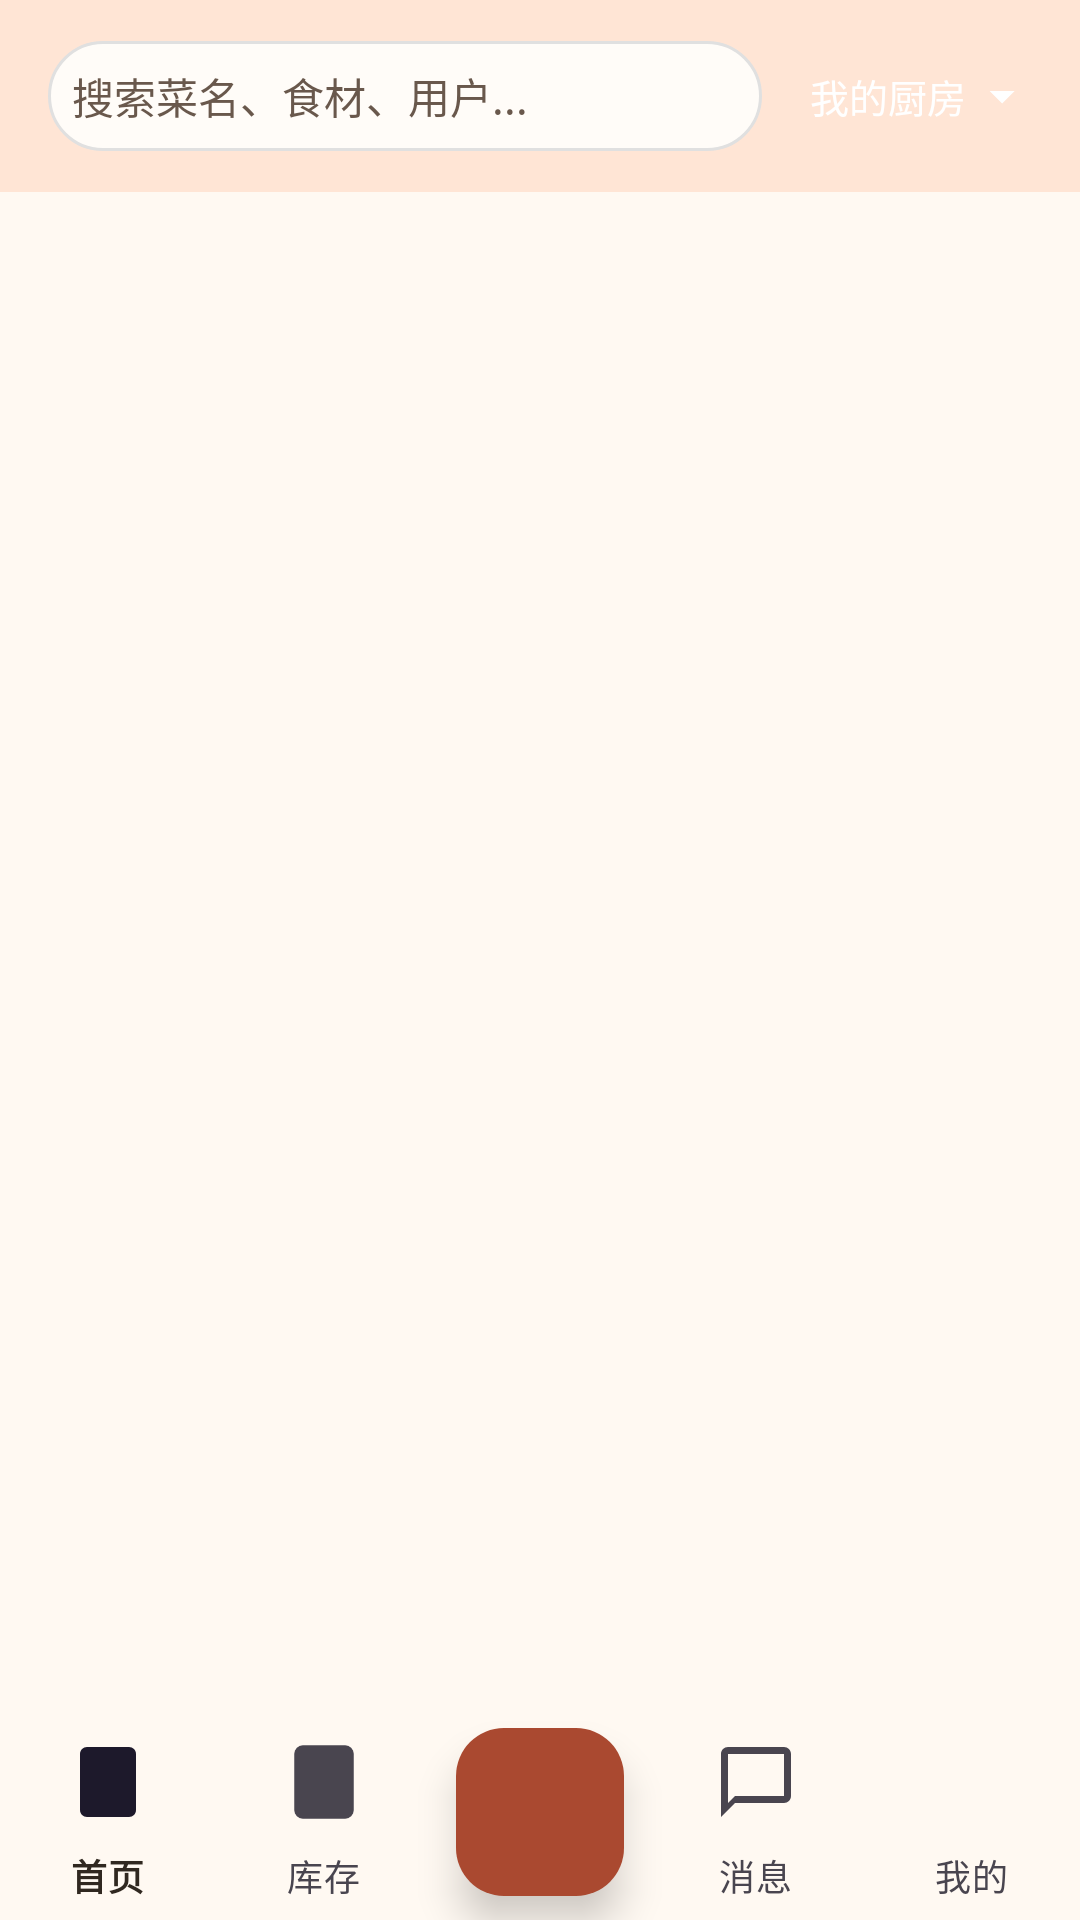

Where to tap for icons on this 1080 x 1920 app screen, as (x,y):
切换厨房: (1002,97)
